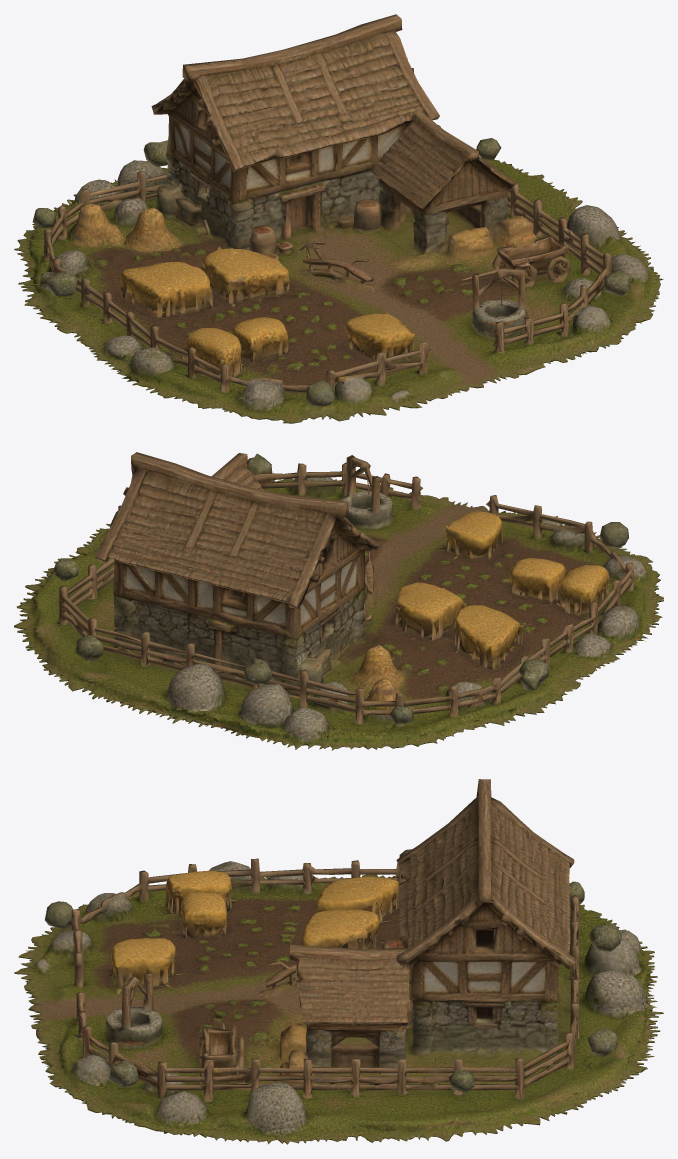
File: farm.glb
3 views of the same model, one above another, from view 1: azimuth 30°, elevation 25°; view 2: azimuth 150°, elevation 25°; view 3: azimuth 270°, elevation 25° (orthographic). The views are drawn at different scales.
Parts seen in each view (by area): view 1: tripo_node_dd8b3156-42cc-431a-b8cb-2aad7168760c; view 2: tripo_node_dd8b3156-42cc-431a-b8cb-2aad7168760c; view 3: tripo_node_dd8b3156-42cc-431a-b8cb-2aad7168760c.
Part boxes in pixels (x1,y1,x2,y2): tripo_node_dd8b3156-42cc-431a-b8cb-2aad7168760c: (14, 14, 663, 423); tripo_node_dd8b3156-42cc-431a-b8cb-2aad7168760c: (14, 452, 663, 750); tripo_node_dd8b3156-42cc-431a-b8cb-2aad7168760c: (14, 779, 663, 1144).
Bounding box in the file's own units: 0.9842 × 0.3256 × 1.
Materials: 1 (1 with a texture image).
